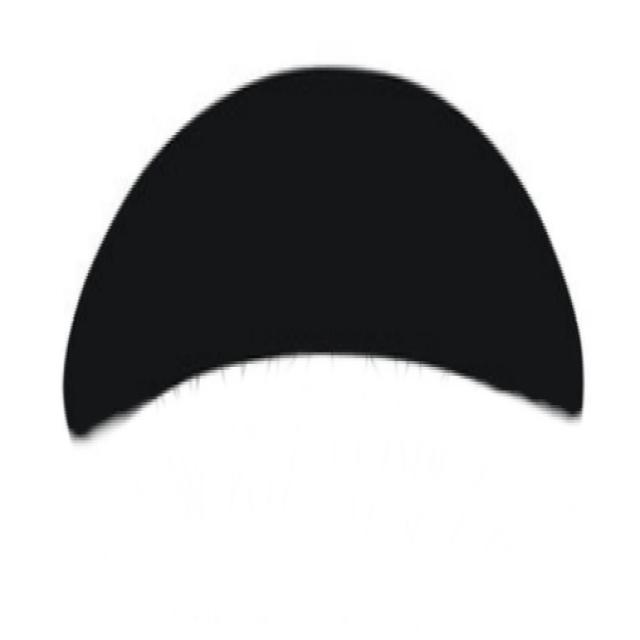paraglider: (61, 61, 584, 438)
